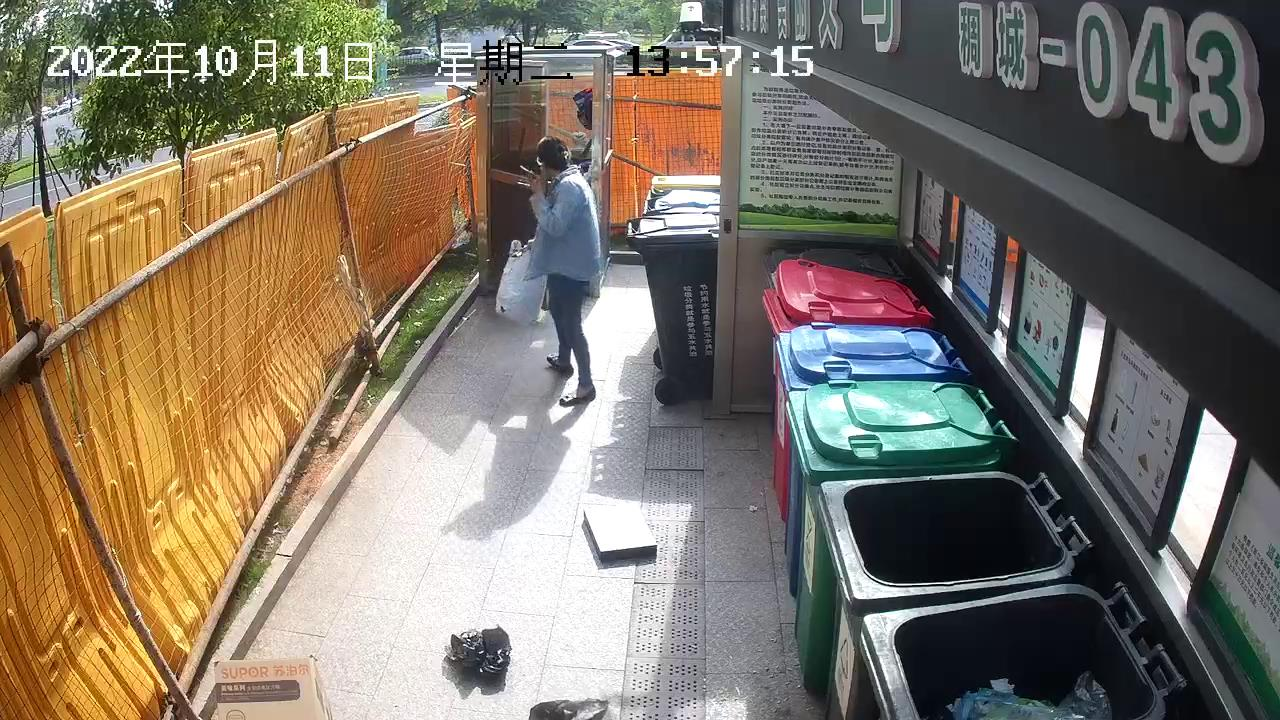garbage: (491, 234, 550, 330), (439, 621, 521, 686)
worker: (520, 130, 608, 410)
zhizhipin: (207, 651, 338, 720)
